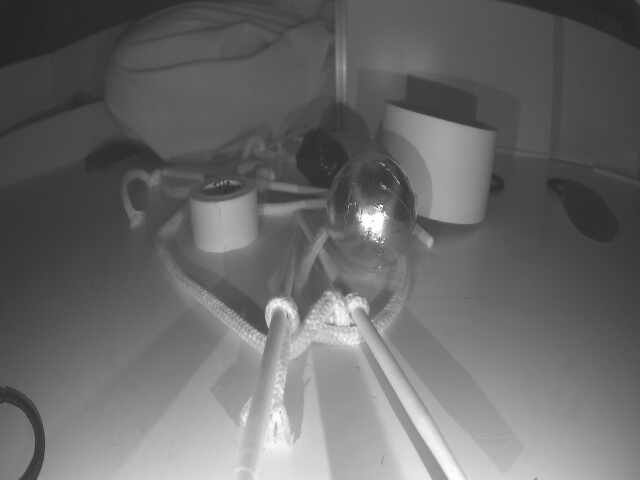Dead: (296, 132, 350, 190)
Live: (325, 152, 424, 272)
Point: (2, 98, 123, 189)
